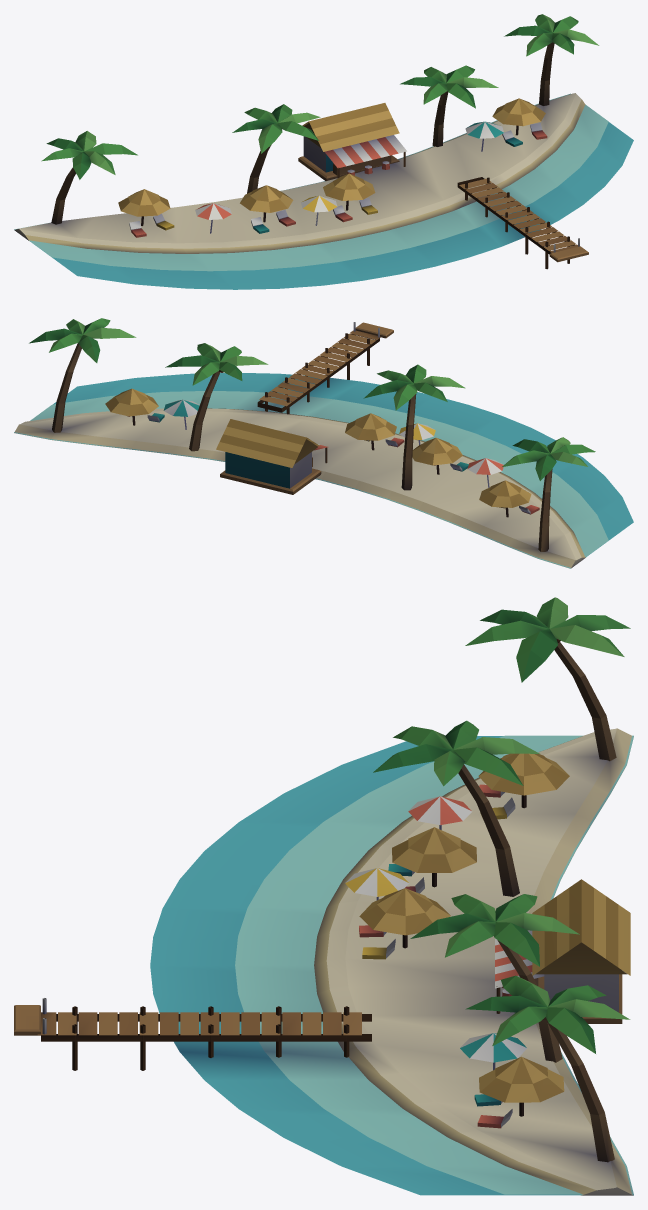
Rendered from margarita_playa.glb.
3 renders of one model, top to bottom at view 1: azimuth 30°, elevation 25°; view 2: azimuth 150°, elevation 25°; view 3: azimuth 270°, elevation 25°, orthographic. The views are drawn at different scales.
Visible parts, largest first — view 1: shallows, sand, palms, bar, palapas, pier, loungers, umbrellas; view 2: sand, shallows, palms, bar, palapas, pier, umbrellas, loungers; view 3: shallows, sand, palms, pier, palapas, bar, umbrellas, loungers.
Boxes of the visible parts, bbox=[...] form: shallows: bbox=[14, 93, 633, 289]; sand: bbox=[14, 93, 585, 253]; palms: bbox=[41, 14, 599, 224]; bar: bbox=[298, 103, 406, 180]; palapas: bbox=[118, 98, 545, 225]; pier: bbox=[457, 177, 588, 269]; loungers: bbox=[129, 123, 547, 237]; umbrellas: bbox=[195, 121, 503, 233]; sand: bbox=[14, 408, 585, 568]; shallows: bbox=[14, 373, 633, 568]; palms: bbox=[29, 318, 595, 551]; bar: bbox=[216, 419, 328, 494]; palapas: bbox=[105, 388, 531, 517]; pier: bbox=[257, 322, 393, 414]; umbrellas: bbox=[163, 399, 503, 487]; loungers: bbox=[127, 413, 539, 514]; shallows: bbox=[150, 735, 633, 1195]; sand: bbox=[314, 728, 633, 1195]; palms: bbox=[373, 597, 630, 1162]; pier: bbox=[14, 998, 371, 1070]; palapas: bbox=[359, 753, 569, 1116]; bar: bbox=[495, 879, 630, 1023]; umbrellas: bbox=[345, 796, 527, 1070]; loungers: bbox=[359, 784, 515, 1128].
Bounding box in the file's own units: 42.24 × 7.87 × 24.11.
